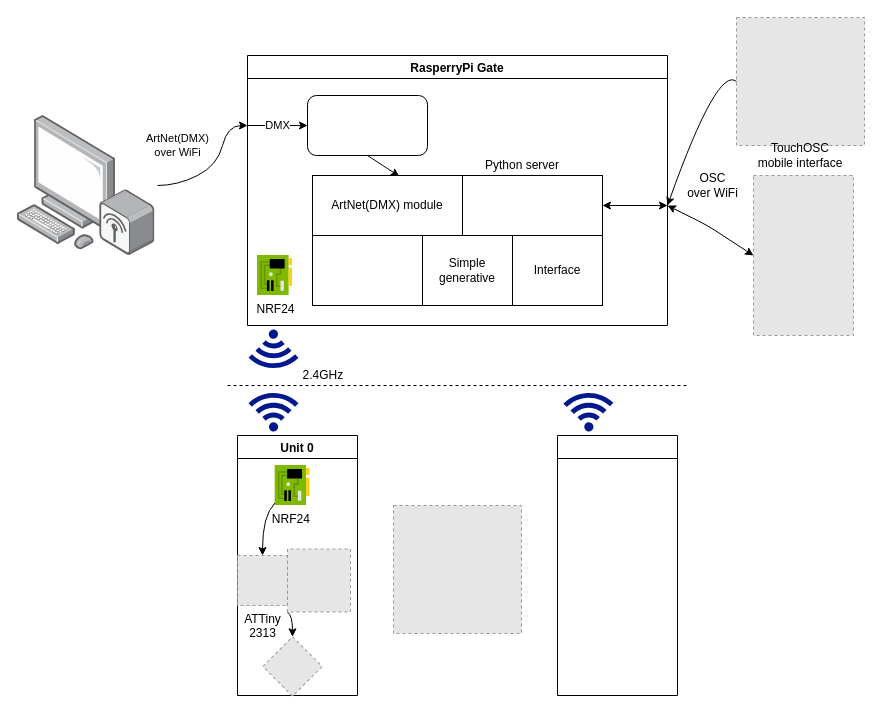
Some shapes in this 882 by 714 pixel diagram are drawn without their labels. Grey dashed boxes stand in for pictures. The centre of each missing label's shape, as x and y in pixels:
"Open Lighting Architecture (OLA)" belongs at [367,125].
"OpenSoundControl duplex" belongs at [532,205].
"TheObject protocol (UART)" belongs at [367,270].
"Unit 19" belongs at [617,565].
